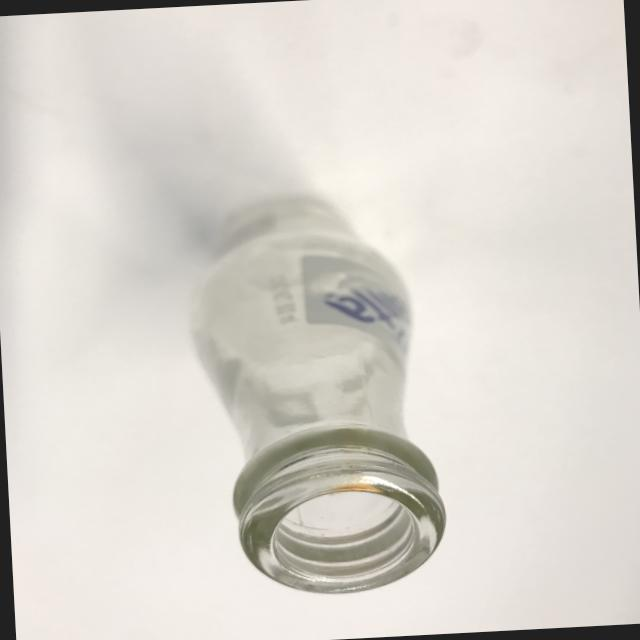Glass: (175, 209, 464, 609)
